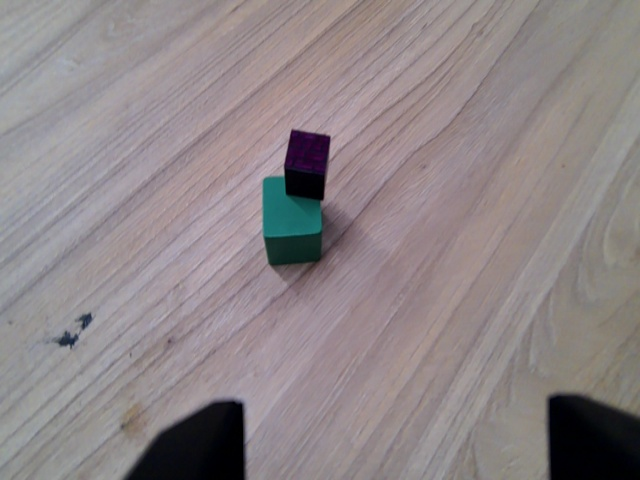brick: (277, 128, 333, 202)
